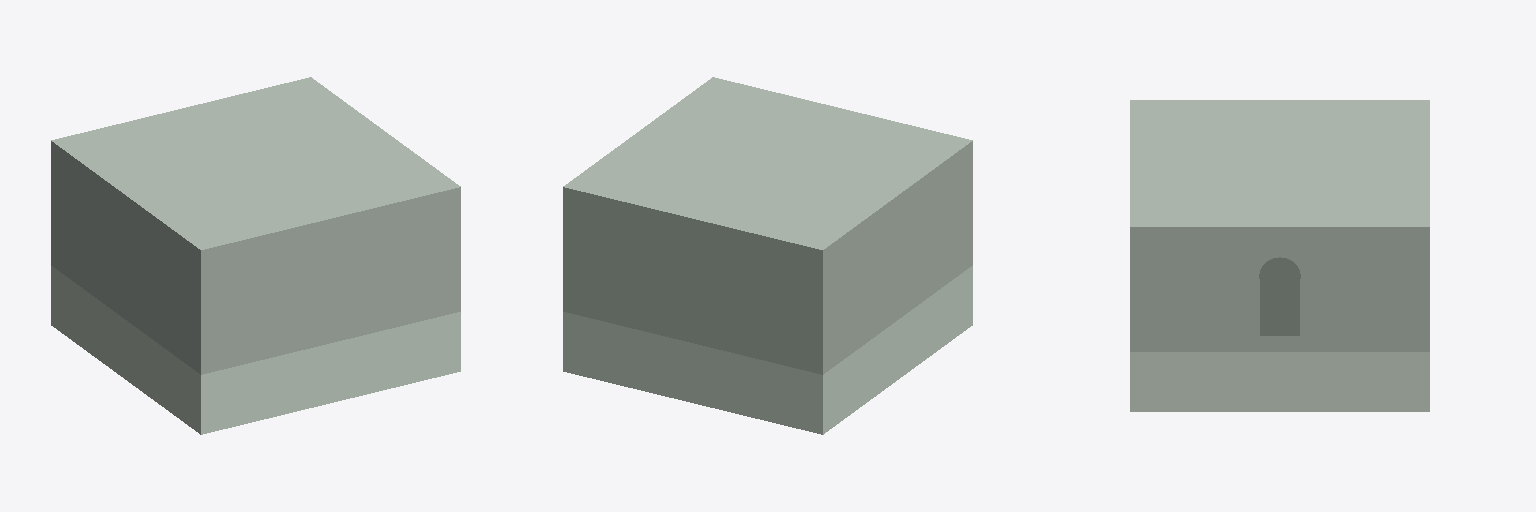
The model's file is towerDefense_009.obj.
3 views of the same model, side by side, from view 1: azimuth 30°, elevation 25°; view 2: azimuth 150°, elevation 25°; view 3: azimuth 270°, elevation 25° (orthographic).
Parts seen in each view (by area): view 1: Mesh1 Group1 Model; view 2: Mesh1 Group1 Model; view 3: Mesh1 Group1 Model.
Part boxes in pixels (left/top/right/bottom): Mesh1 Group1 Model: left=51, top=77, right=460, bottom=434; Mesh1 Group1 Model: left=563, top=77, right=972, bottom=434; Mesh1 Group1 Model: left=1130, top=100, right=1429, bottom=411.
Size of the model in its own units: 0.5901 by 0.4 by 0.5901.